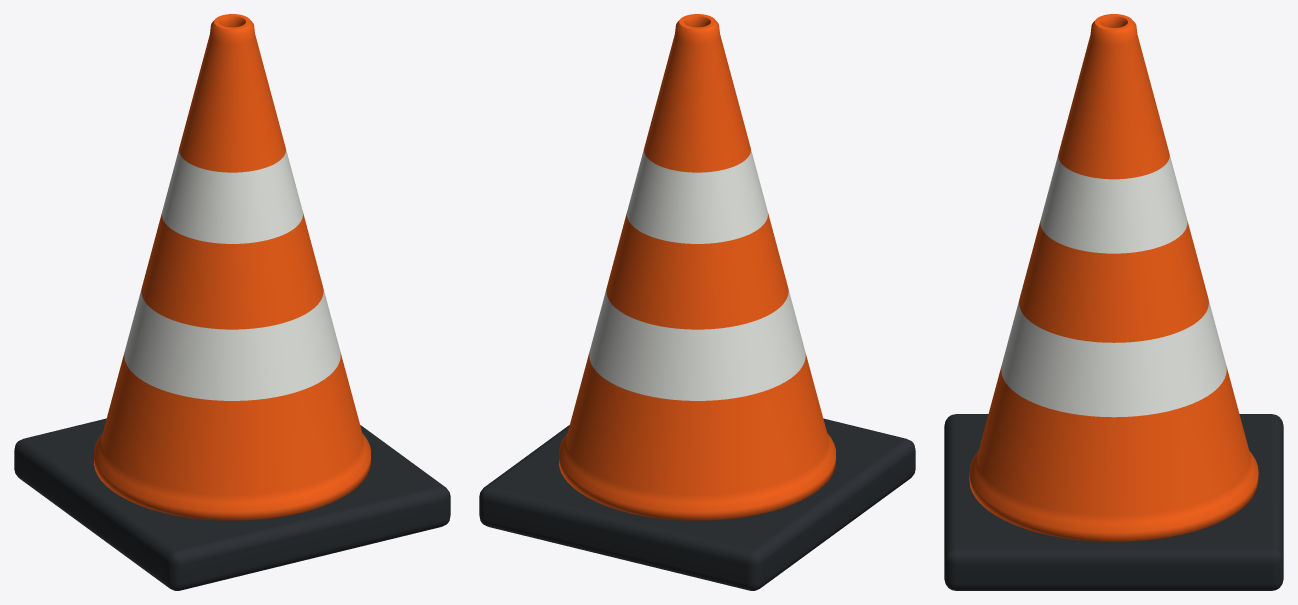
The model's file is DS_TrafficCone.fbx.
The picture shows the model from 3 angles, left to right: view 1: azimuth 30°, elevation 25°; view 2: azimuth 150°, elevation 25°; view 3: azimuth 270°, elevation 25°; orthographic projection. The views are drawn at different scales.
Visible parts, largest first — view 1: DS_TrafficCone; view 2: DS_TrafficCone; view 3: DS_TrafficCone.
Boxes of the visible parts, x1,y1,x2,y2 form: DS_TrafficCone: (14,14,450,590); DS_TrafficCone: (479,14,915,590); DS_TrafficCone: (944,14,1283,590).
Bounding box in the file's own units: 0.46 × 0.75 × 0.46.
